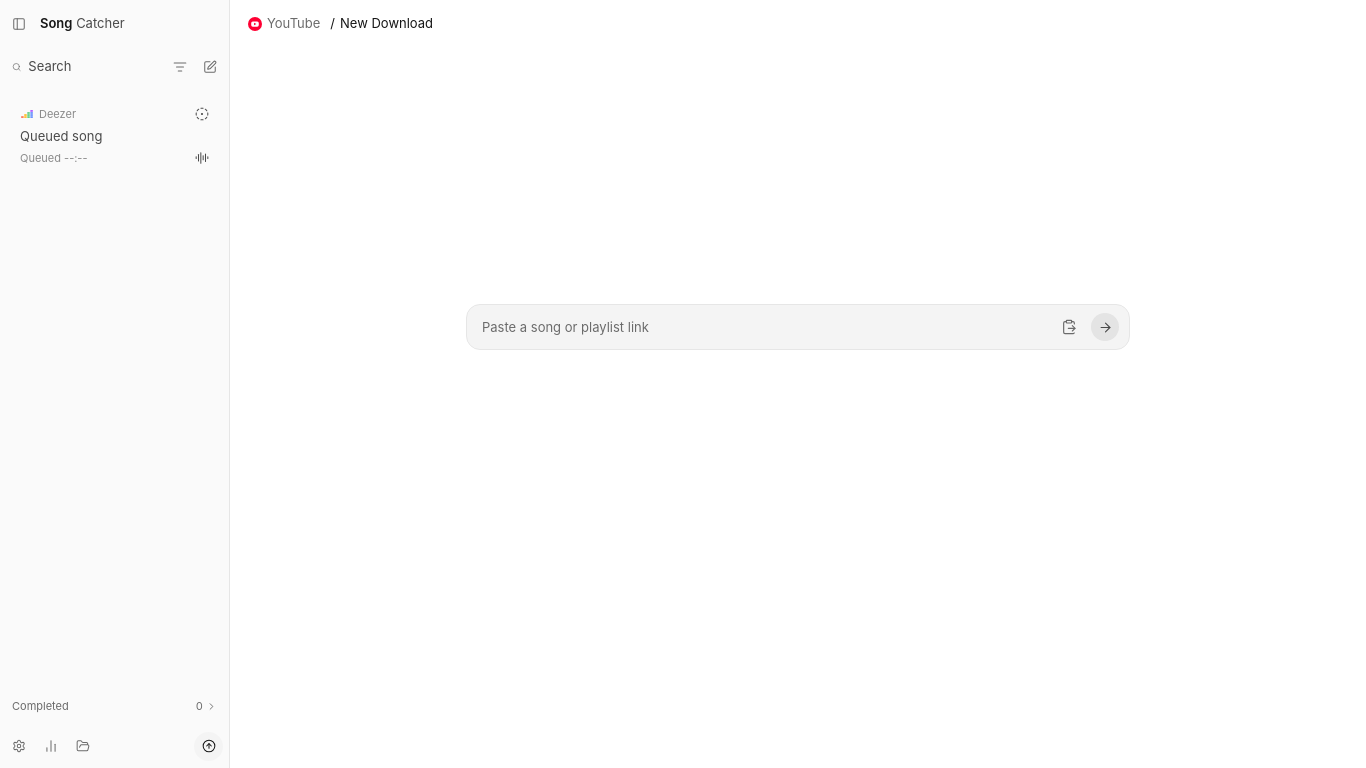
Test: App › hides the sidebar and remembers it
Expected: the text "Queued song" is shown, [20,128,102,144]
Click the button named "Hide sidebar".
click(19, 24)  # box [6,11,32,37]
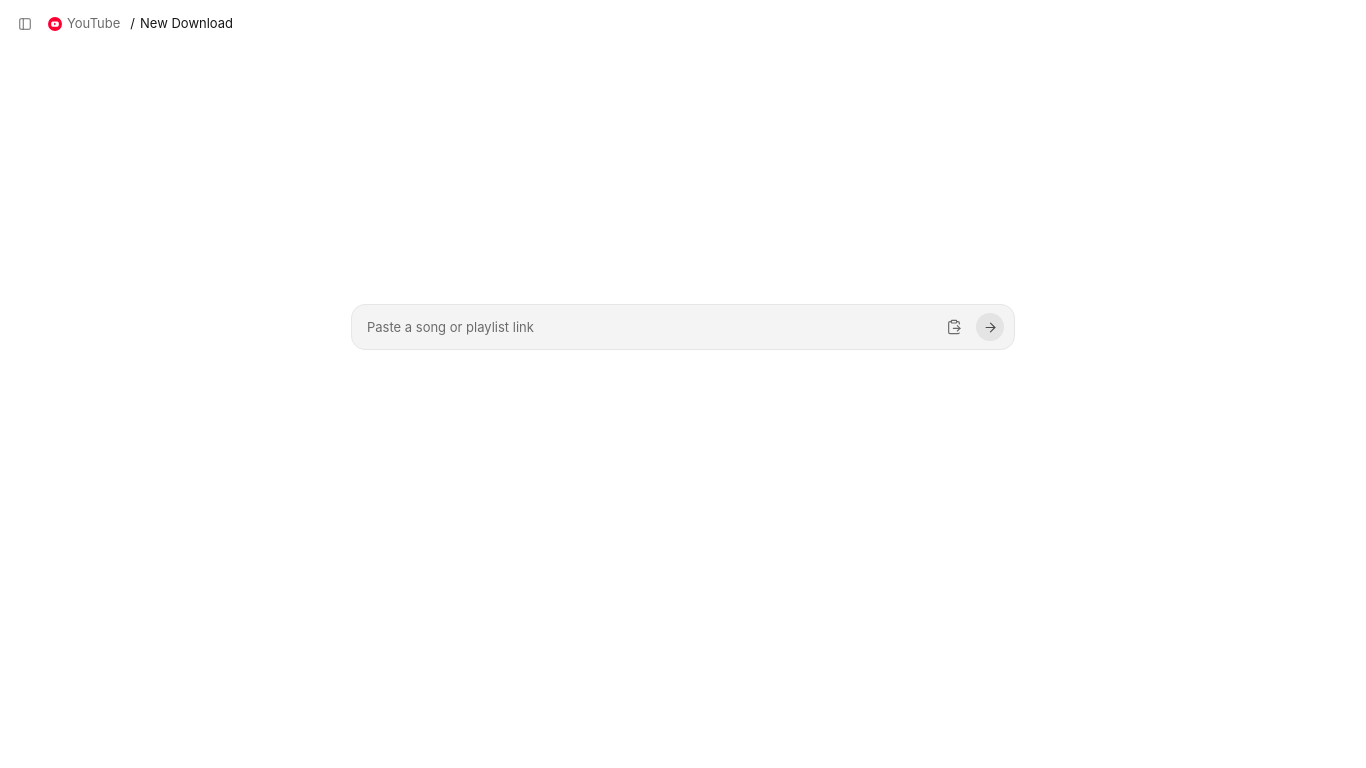
Result: the text "Queued song" is gone
Click the button named "Show sidebar".
click(25, 24)  # box [12,11,38,37]
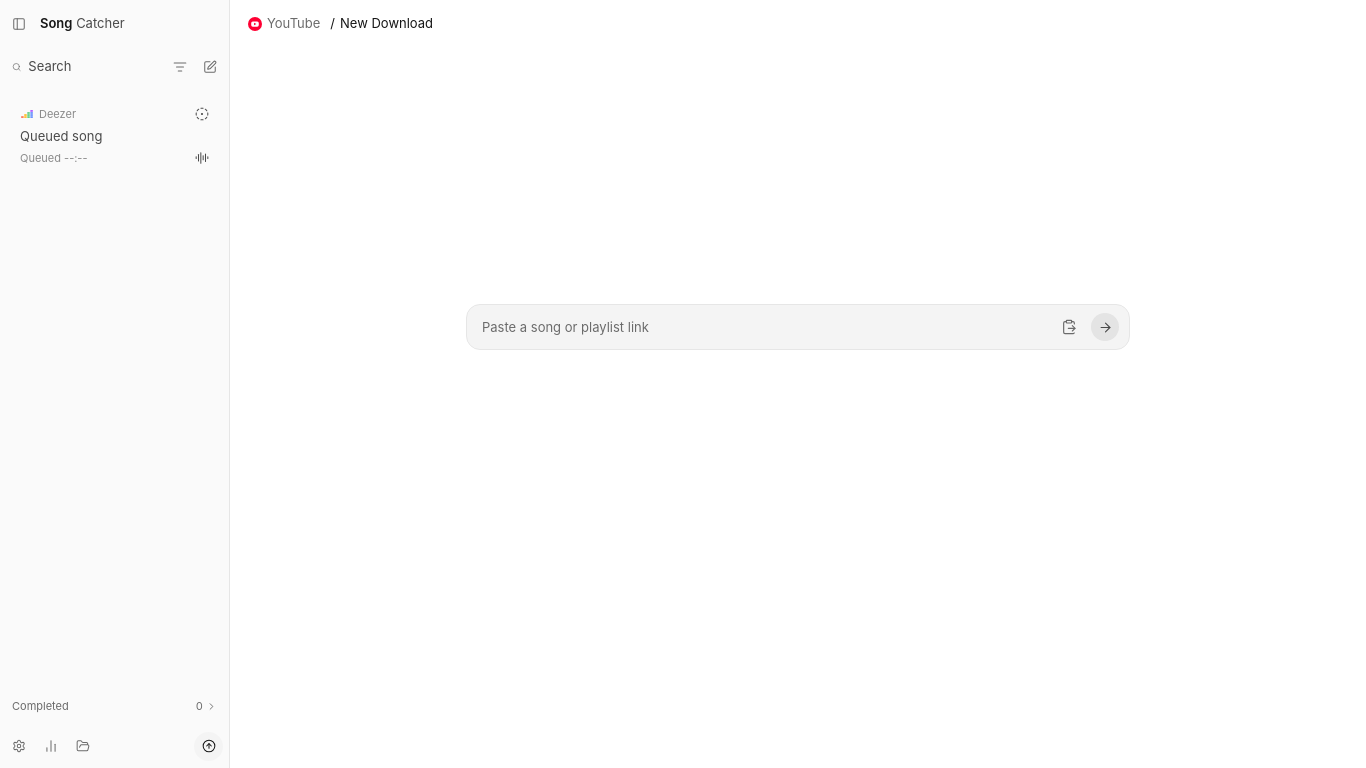
Result: the text "Queued song" is shown at [20,128,102,144]
